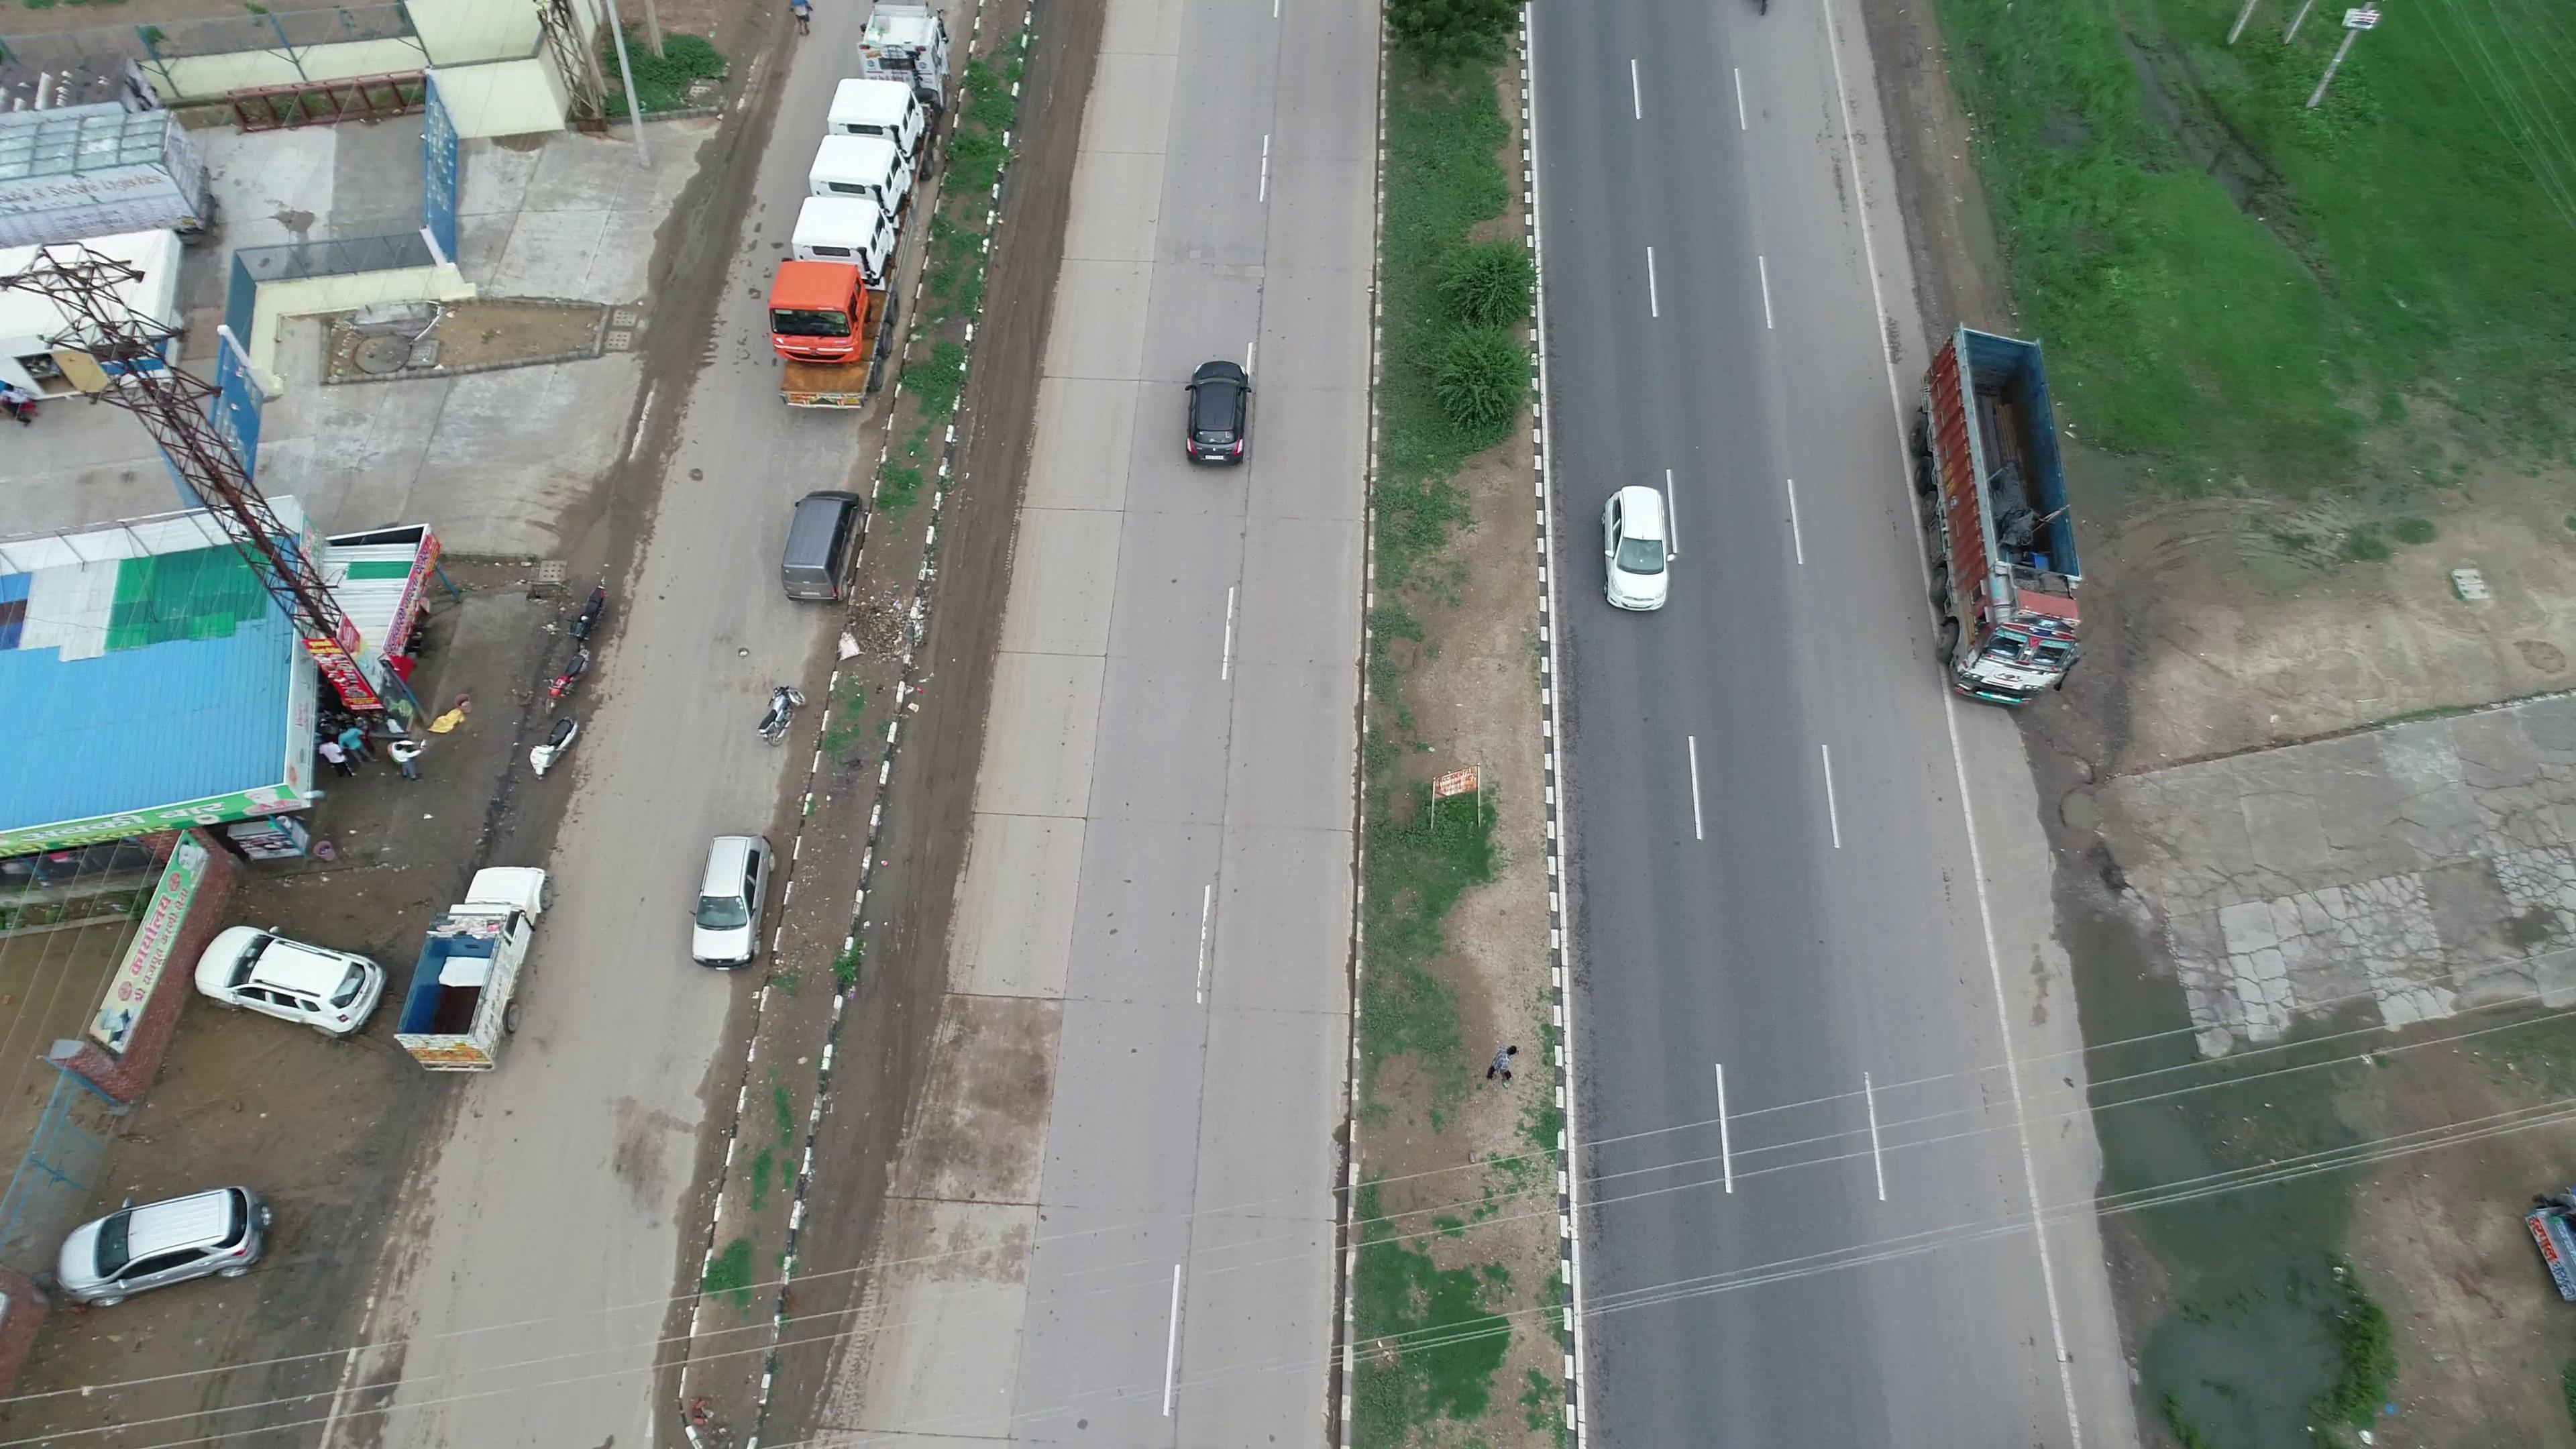Muddy_road: (810, 826, 954, 1212), (932, 248, 1053, 525), (890, 545, 1005, 810), (993, 14, 1108, 237)
Ravelling: (1559, 630, 1601, 991)
